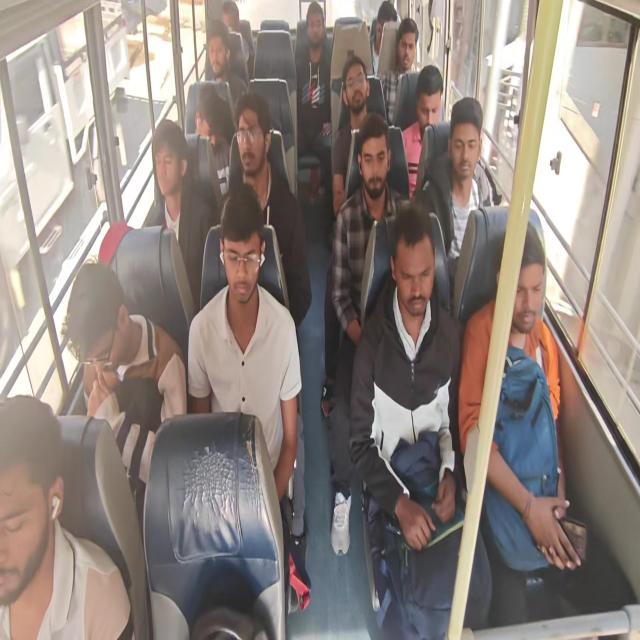person: (0, 430, 62, 596), (398, 238, 442, 336), (499, 238, 542, 328), (76, 294, 122, 374), (226, 224, 264, 305), (452, 114, 486, 178), (359, 139, 390, 199), (150, 150, 186, 198), (418, 77, 448, 132), (239, 106, 259, 166), (195, 105, 222, 147), (399, 28, 421, 76), (372, 14, 398, 52), (348, 70, 368, 108), (209, 28, 226, 72), (307, 16, 322, 50)
